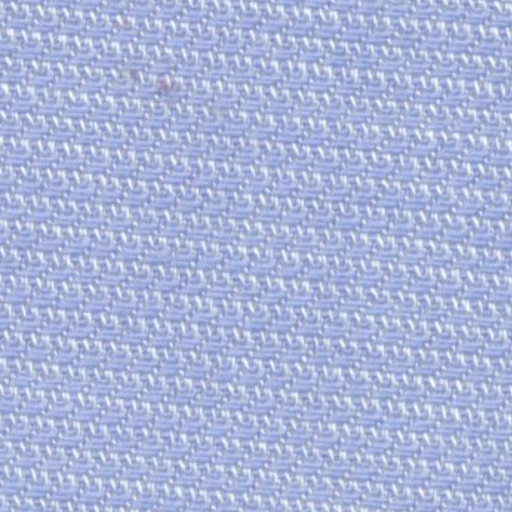WuZi: (100, 56, 196, 110)
